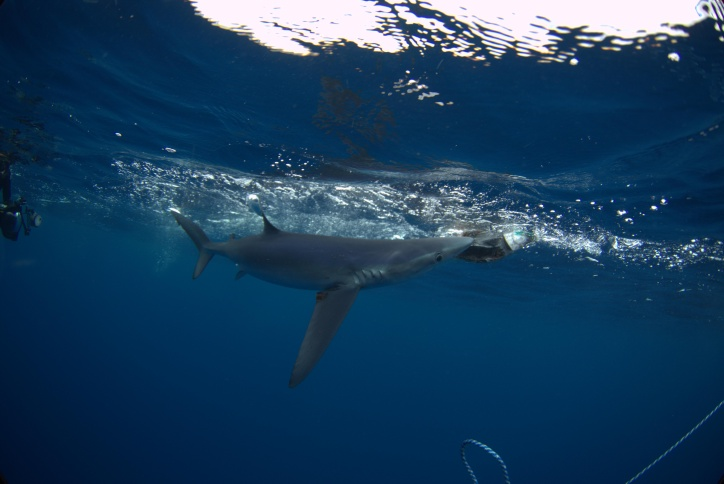Azul: (155, 193, 491, 412)
